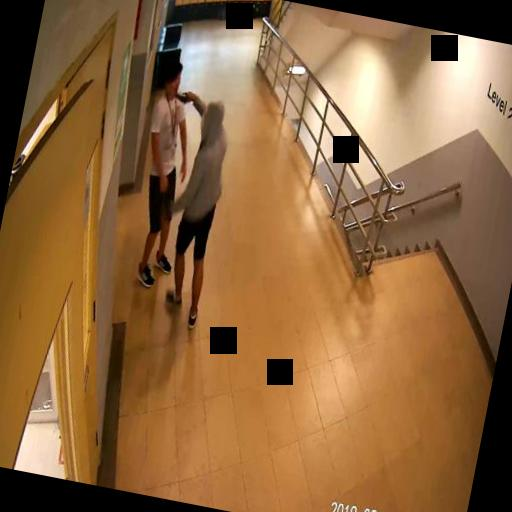Handgun: (173, 86, 195, 104)
